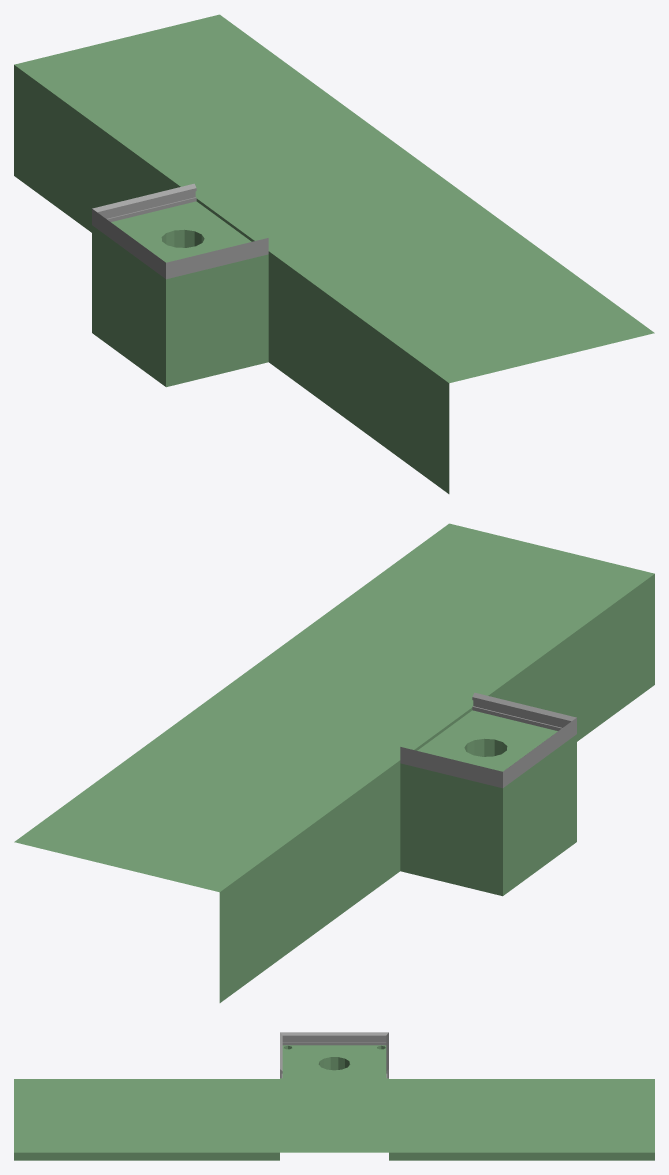
File: PlatformBetter.fbx
The picture shows the model from 3 angles, top to bottom: view 1: azimuth 30°, elevation 25°; view 2: azimuth 150°, elevation 25°; view 3: azimuth 270°, elevation 25°; orthographic projection. The views are drawn at different scales.
Parts seen in each view (by area): view 1: Street_Platform2, Fence; view 2: Street_Platform2, Fence; view 3: Street_Platform2, Fence.
Part boxes in pixels (x1,y1,x2,y2): Street_Platform2: (14,14,654,493); Fence: (92,183,268,279); Street_Platform2: (14,523,654,1002); Fence: (400,692,576,788); Street_Platform2: (14,1045,654,1160); Fence: (280,1032,388,1078).
Size of the model in its own units: 120 by 46.4 by 294.
